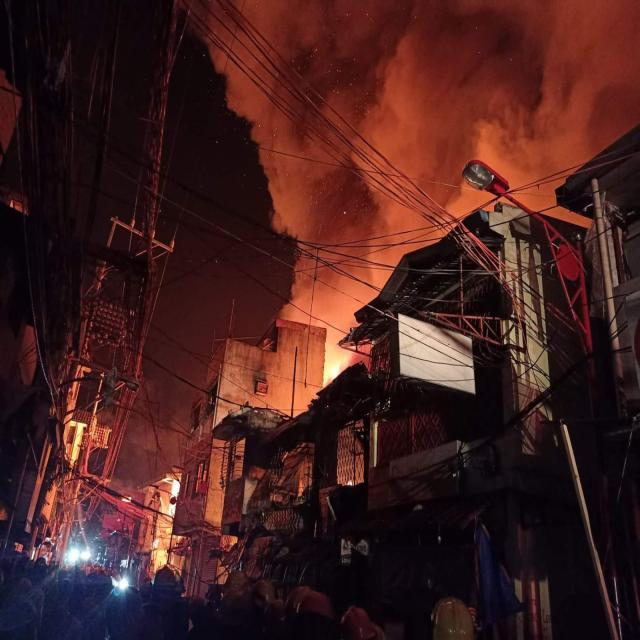Fire: (324, 326, 364, 388), (156, 472, 179, 528)
Smoke: (186, 0, 640, 322)
